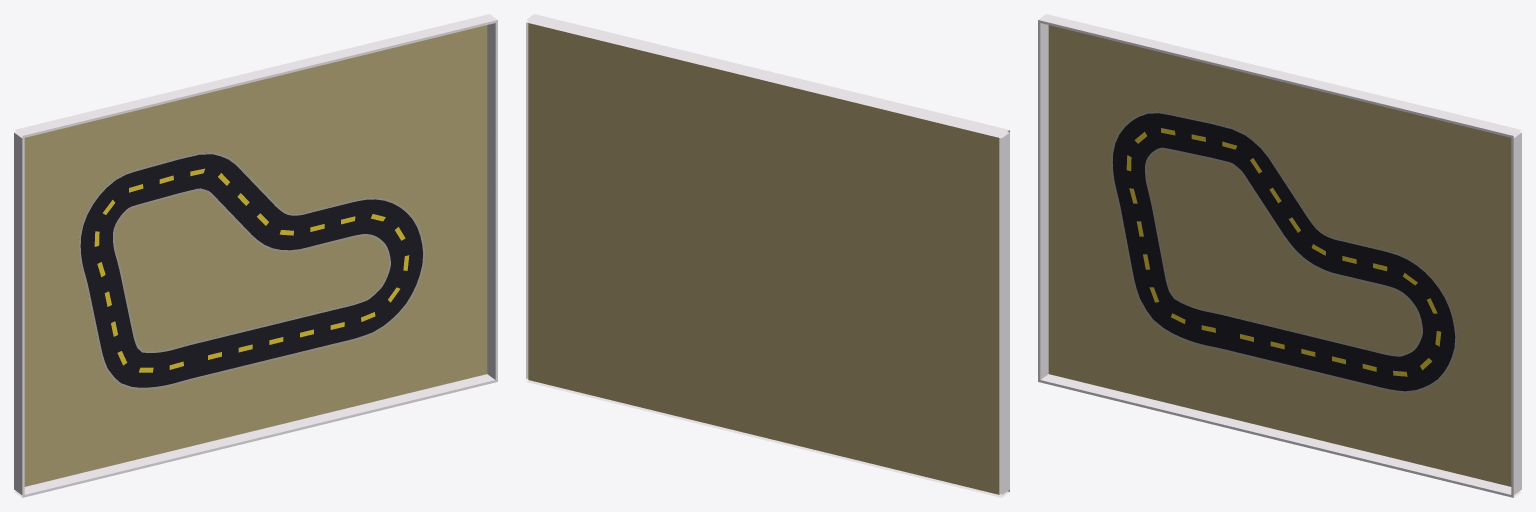
File: track.obj
The picture shows the model from 3 angles, left to right: view 1: azimuth 30°, elevation 25°; view 2: azimuth 150°, elevation 25°; view 3: azimuth 330°, elevation 25°; orthographic projection.
Bounding box in the file's own units: 10.08 × 7.33 × 0.3.
